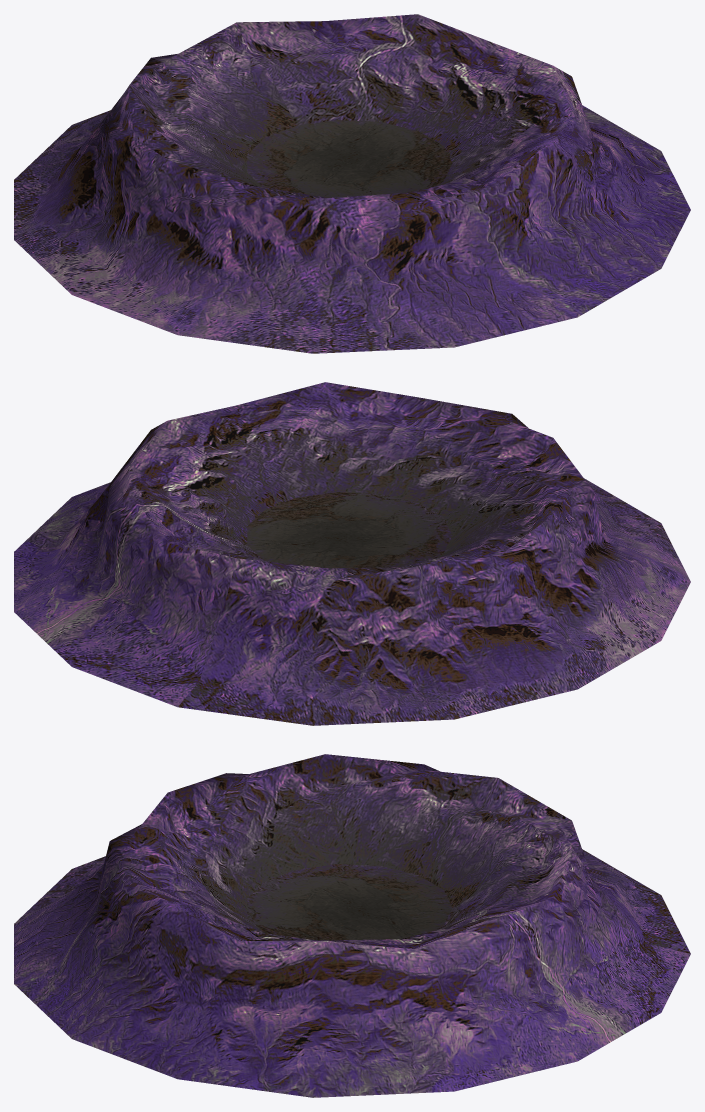
Rendered from crater_1.obj.
The picture shows the model from 3 angles, top to bottom: view 1: azimuth 30°, elevation 25°; view 2: azimuth 150°, elevation 25°; view 3: azimuth 270°, elevation 25°; orthographic projection.
Parts seen in each view (by area): view 1: crater; view 2: crater; view 3: crater.
Boxes of the visible parts, x1,y1,x2,y2 form: crater: [14, 14, 690, 353]; crater: [14, 382, 690, 725]; crater: [14, 754, 690, 1097].
Size of the model in its own units: 3.87 by 0.663 by 3.85.
